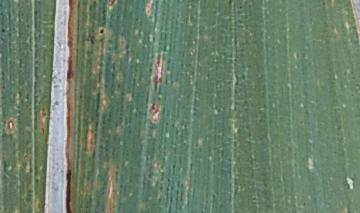tarspot: (95, 24, 110, 39), (1, 24, 9, 38)
